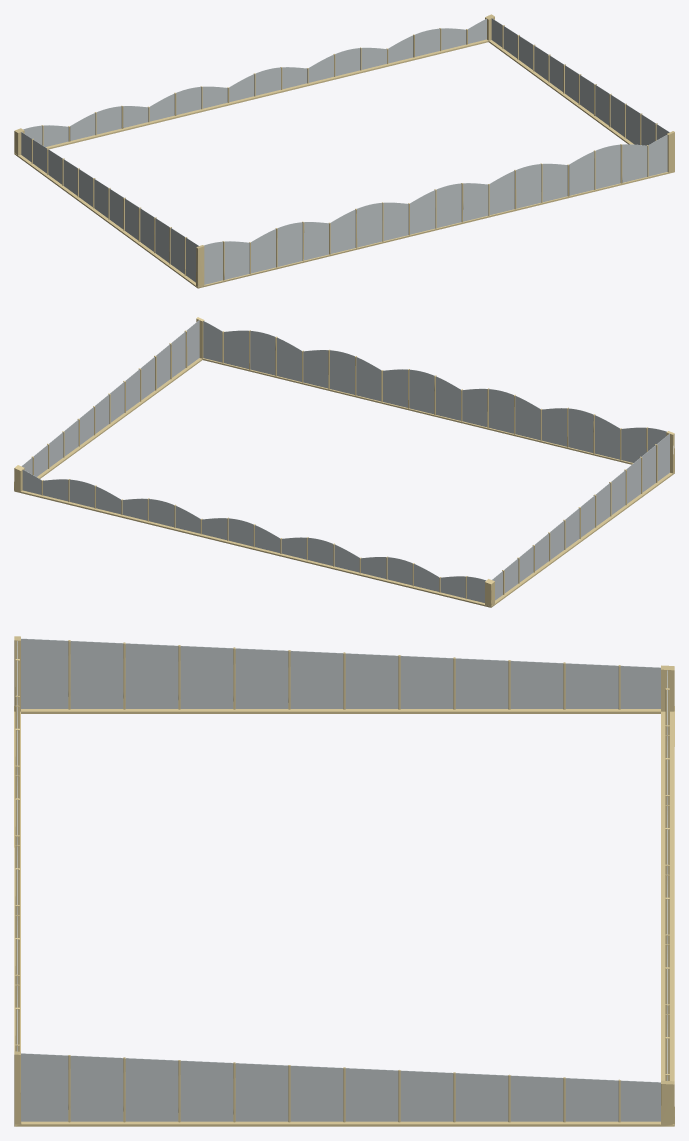
File: clerestory.glb
3 views of the same model, one above another, from view 1: azimuth 30°, elevation 25°; view 2: azimuth 150°, elevation 25°; view 3: azimuth 270°, elevation 25° (orthographic). The views are drawn at different scales.
Parts seen in each view (by area): view 1: clerestory_glass, clerestory_gold; view 2: clerestory_glass, clerestory_gold; view 3: clerestory_glass, clerestory_gold.
Part boxes in pixels (box(x1,y1,x2,y2)): clerestory_glass: box(21, 18, 669, 284); clerestory_gold: box(14, 14, 674, 288); clerestory_glass: box(21, 320, 669, 602); clerestory_gold: box(14, 317, 674, 607); clerestory_glass: box(17, 638, 667, 1121); clerestory_gold: box(14, 636, 674, 1126).
Bounding box in the file's own units: 18.02 × 1.48 × 12.02.
